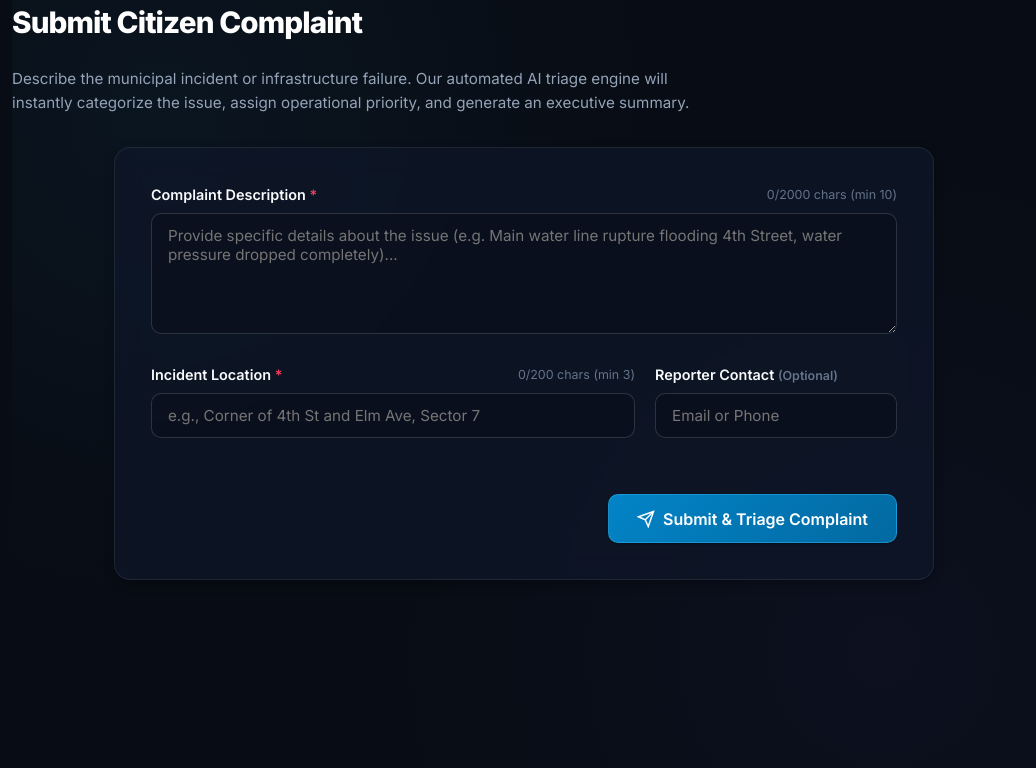
SubmitPage Component › validates input length constraints client-side before submission
The width and height of the screenshot is (1036, 768).
Click the button "Submit & Triage Complaint".
click(752, 519)  # box [608,494,897,543]
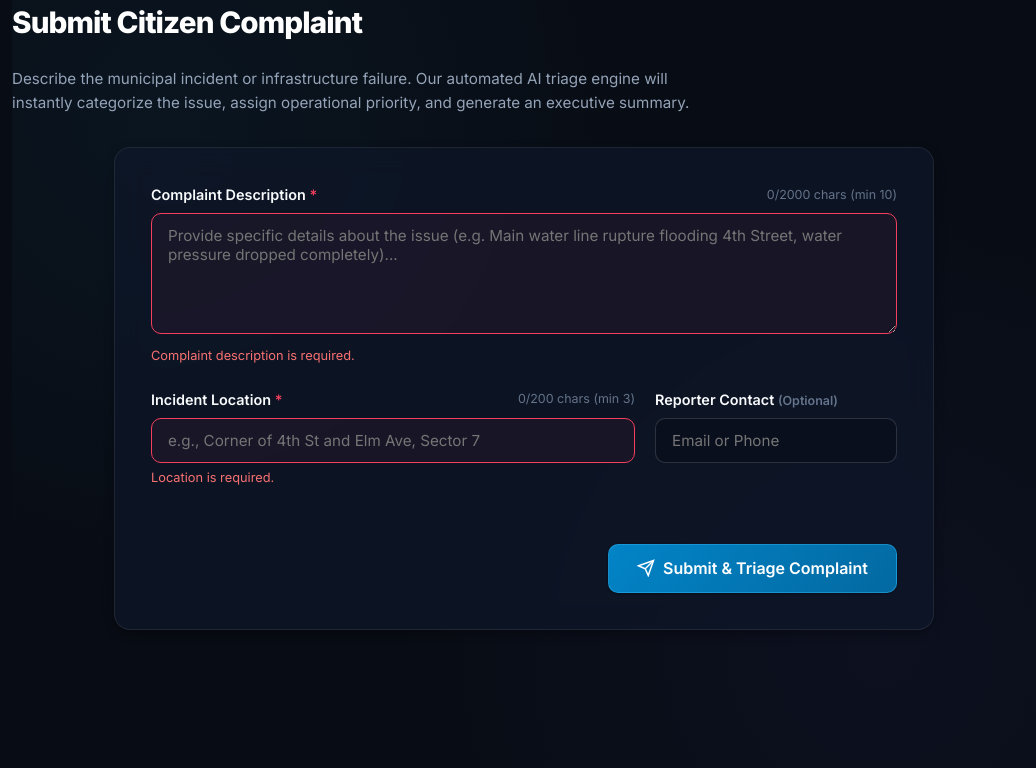
Check: the text "Complaint description is required." is shown, box [151,348,355,363]
Check: the text "Location is required." is shown, box [151,470,274,485]
Replace the text in the text box labelled "Complaint Description *" with "Short" at (524, 274), box [151,213,897,334]
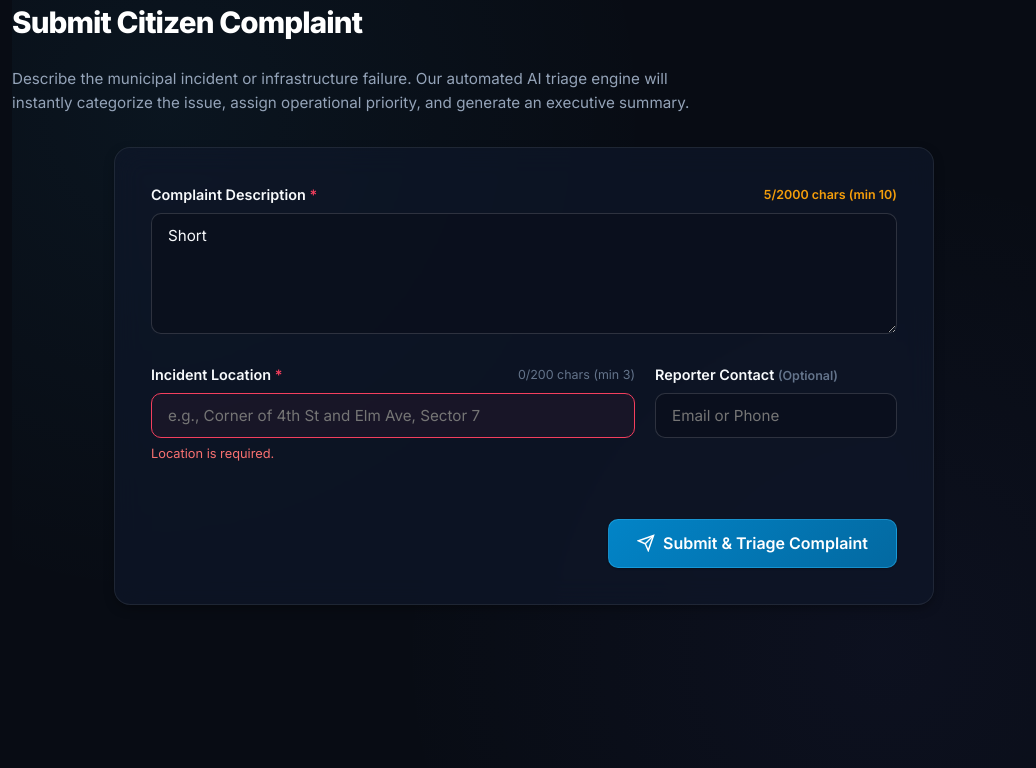
Type "St" into the field labelled "Incident Location *".
click(393, 416); type("St")  # box [151,393,635,438]
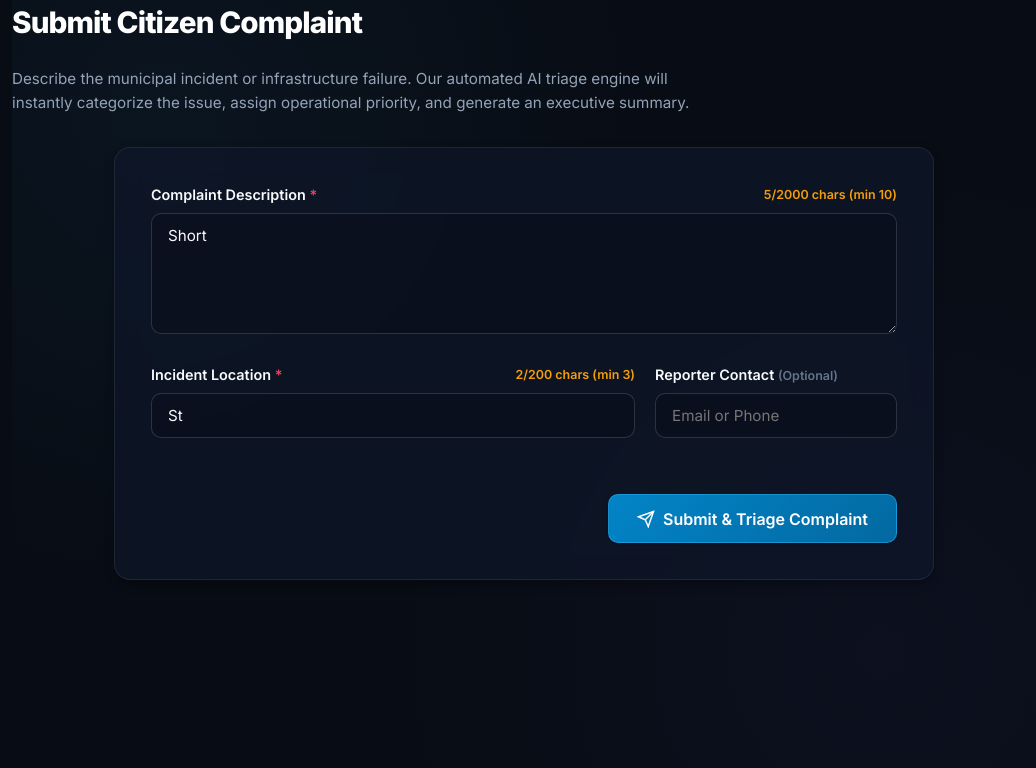
Click the button "Submit & Triage Complaint".
click(752, 519)  # box [608,494,897,543]
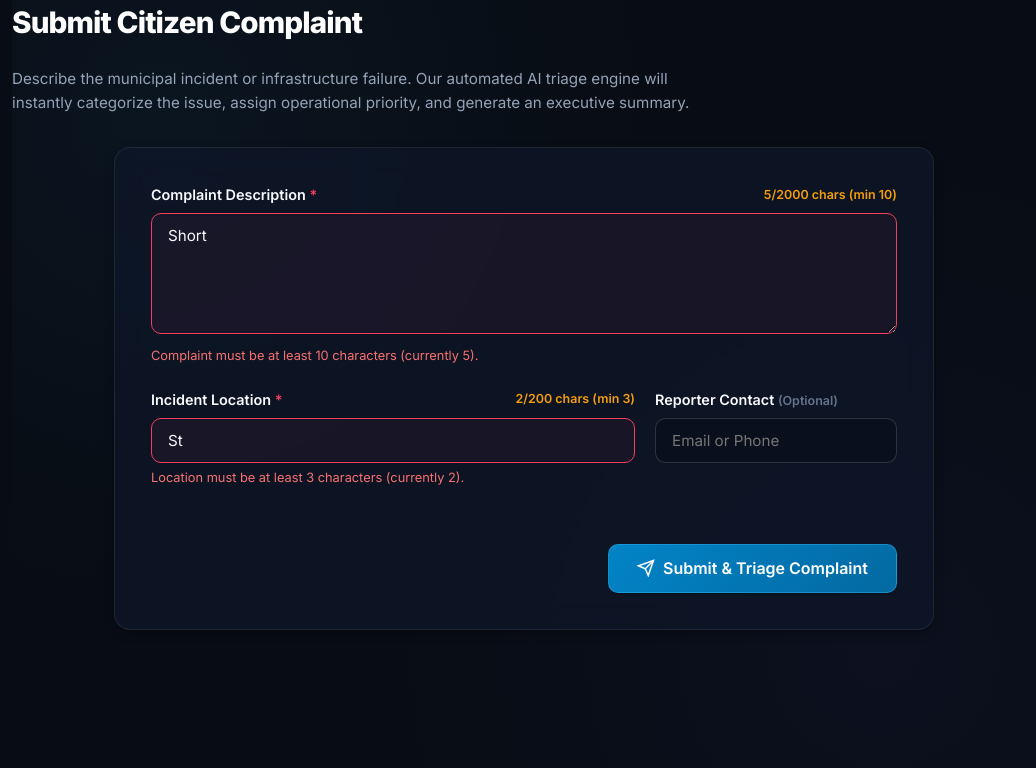
Check: the text "Complaint must be at least 10 characters (currently 5)." is shown, box [151,348,478,363]
Check: the text "Location must be at least 3 characters (currently 2)." is shown, box [151,470,464,485]
